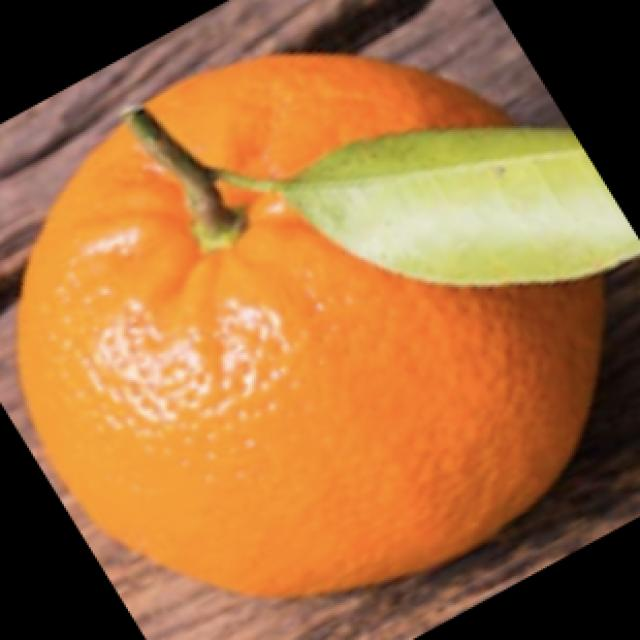matang: (10, 56, 604, 608)
